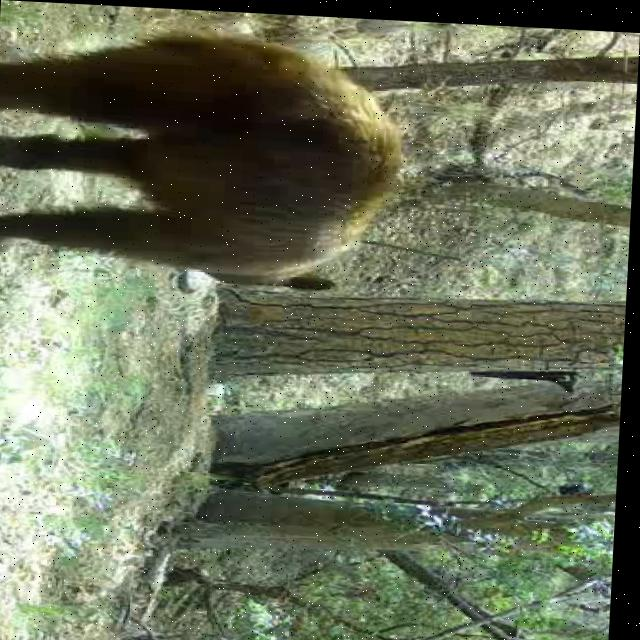bear face: (0, 25, 408, 290), (472, 360, 583, 384)
